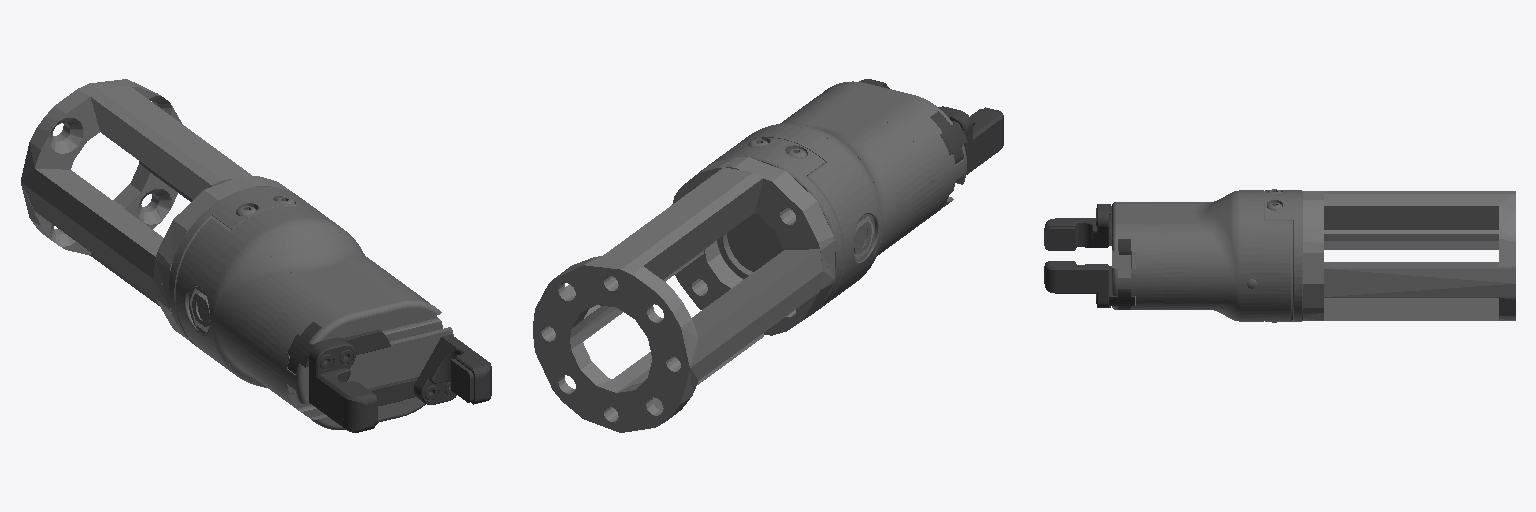
URDF robot description (ikor_robot):
<?xml version="1.0" ?>
<!-- =================================================================================== -->
<!-- |    This document was autogenerated by xacro from [local-path]/mojer/catkin_ws/src/acroba_ros/acroba_resources/urdf/ikor_robot.xacro | -->
<!-- |    EDITING THIS FILE BY HAND IS NOT RECOMMENDED                                 | -->
<!-- =================================================================================== -->
<robot name="ikor_robot">
  <transmission name="shoulder_1_trans">
    <type>transmission_interface/SimpleTransmission</type>
    <joint name="shoulder_1_joint">
      <hardwareInterface>hardware_interface/PositionJointInterface</hardwareInterface>
    </joint>
    <actuator name="shoulder_1_motor">
      <mechanicalReduction>1</mechanicalReduction>
    </actuator>
  </transmission>
  <transmission name="shoulder_2_trans">
    <type>transmission_interface/SimpleTransmission</type>
    <joint name="shoulder_2_joint">
      <hardwareInterface>hardware_interface/PositionJointInterface</hardwareInterface>
    </joint>
    <actuator name="shoulder_2_motor">
      <mechanicalReduction>1</mechanicalReduction>
    </actuator>
  </transmission>
  <transmission name="elbow_1_trans">
    <type>transmission_interface/SimpleTransmission</type>
    <joint name="elbow_1_joint">
      <hardwareInterface>hardware_interface/PositionJointInterface</hardwareInterface>
    </joint>
    <actuator name="elbow_1_motor">
      <mechanicalReduction>1</mechanicalReduction>
    </actuator>
  </transmission>
  <transmission name="wrist_1_trans">
    <type>transmission_interface/SimpleTransmission</type>
    <joint name="wrist_1_joint">
      <hardwareInterface>hardware_interface/PositionJointInterface</hardwareInterface>
    </joint>
    <actuator name="wrist_1_motor">
      <mechanicalReduction>1</mechanicalReduction>
    </actuator>
  </transmission>
  <transmission name="wrist_2_trans">
    <type>transmission_interface/SimpleTransmission</type>
    <joint name="wrist_2_joint">
      <hardwareInterface>hardware_interface/PositionJointInterface</hardwareInterface>
    </joint>
    <actuator name="wrist_2_motor">
      <mechanicalReduction>1</mechanicalReduction>
    </actuator>
  </transmission>
  <transmission name="wrist_3_trans">
    <type>transmission_interface/SimpleTransmission</type>
    <joint name="wrist_3_joint">
      <hardwareInterface>hardware_interface/PositionJointInterface</hardwareInterface>
    </joint>
    <actuator name="wrist_3_motor">
      <mechanicalReduction>1</mechanicalReduction>
    </actuator>
  </transmission>
  <link name="base_link">
    <visual>
      <geometry>
        <mesh filename="package://acroba_resources/meshes/tm900/visual/Base.STL"/>
      </geometry>
      <material name="Grey">
        <color rgba="0.5 0.5 0.5 1.0"/>
      </material>
    </visual>
    <collision>
      <geometry>
        <mesh filename="package://acroba_resources/meshes/tm900/collision/base.STL"/>
      </geometry>
    </collision>
    <inertial>
      <mass value="1.0"/>
      <origin rpy="0 0 0" xyz="0.0 0.0 0.0"/>
      <inertia ixx="0.00110833289" ixy="0.0" ixz="0.0" iyy="0.00110833289" iyz="0.0" izz="0.0018"/>
    </inertial>
  </link>
  <link name="shoulder_1_link">
    <visual>
      <geometry>
        <mesh filename="package://acroba_resources/meshes/tm900/visual/Shoulder1.STL"/>
      </geometry>
      <material name="DarkOlive">
        <color rgba="0.3 0.3 0.25 1.0"/>
      </material>
    </visual>
    <collision>
      <geometry>
        <mesh filename="package://acroba_resources/meshes/tm900/collision/shoulder_1.STL"/>
      </geometry>
    </collision>
    <inertial>
      <mass value="4.5"/>
      <origin rpy="0 0 0" xyz="0.0 0.0 0.0"/>
      <inertia ixx="0.012487495005" ixy="0.0" ixz="0.0" iyy="0.012487495005" iyz="0.0" izz="0.0081"/>
    </inertial>
  </link>
  <joint name="shoulder_1_joint" type="revolute">
    <parent link="base_link"/>
    <child link="shoulder_1_link"/>
    <origin rpy="-1.570796325 0.0 0.0" xyz="0.0 0.0 0.1451"/>
    <axis xyz="0 -1 0"/>
    <limit effort="150.0" lower="-6.2831853" upper="6.2831853" velocity="3.15"/>
    <dynamics damping="0.0" friction="0.0"/>
  </joint>
  <link name="arm_1_link">
    <visual>
      <geometry>
        <mesh filename="package://acroba_resources/meshes/tm900/visual/Arm1.STL"/>
      </geometry>
      <material name="DarkOlive">
        <color rgba="0.3 0.3 0.25 1.0"/>
      </material>
    </visual>
    <collision>
      <geometry>
        <mesh filename="package://acroba_resources/meshes/tm900/collision/arm_1.STL"/>
      </geometry>
    </collision>
    <inertial>
      <mass value="11.0"/>
      <origin rpy="0 0 0" xyz="0.0 0.0 0.28"/>
      <inertia ixx="0.29736654772" ixy="0.0" ixz="0.0" iyy="0.29736654772" iyz="0.0" izz="0.019799999999999998"/>
    </inertial>
  </link>
  <joint name="shoulder_2_joint" type="revolute">
    <parent link="shoulder_1_link"/>
    <child link="arm_1_link"/>
    <origin rpy="0.0 0.0 -1.570796325" xyz="0.0 0.0 -0.146"/>
    <axis xyz="0 0 1"/>
    <limit effort="150.0" lower="-4.7123889750000005" upper="4.7123889750000005" velocity="3.15"/>
    <dynamics damping="0.0" friction="0.0"/>
  </joint>
  <link name="arm_2_link">
    <visual>
      <geometry>
        <mesh filename="package://acroba_resources/meshes/tm900/visual/Arm2.STL"/>
      </geometry>
      <material name="DarkOlive">
        <color rgba="0.3 0.3 0.25 1.0"/>
      </material>
    </visual>
    <collision>
      <geometry>
        <mesh filename="package://acroba_resources/meshes/tm900/collision/arm_2.STL"/>
      </geometry>
    </collision>
    <inertial>
      <mass value="2.5"/>
      <origin rpy="0 0 0" xyz="0.0 0.0 0.25"/>
      <inertia ixx="0.054333311599999996" ixy="0.0" ixz="0.0" iyy="0.054333311599999996" iyz="0.0" izz="0.0045"/>
    </inertial>
  </link>
  <joint name="elbow_1_joint" type="revolute">
    <parent link="arm_1_link"/>
    <child link="arm_2_link"/>
    <origin rpy="0.0 0.0 0.0" xyz="0.429 0.0 0.1298"/>
    <axis xyz="0 0 1"/>
    <limit effort="150.0" lower="-4.7123889750000005" upper="4.7123889750000005" velocity="3.15"/>
    <dynamics damping="0.0" friction="0.0"/>
  </joint>
  <link name="wrist_1_link">
    <visual>
      <geometry>
        <mesh filename="package://acroba_resources/meshes/tm900/visual/Wrist1.STL"/>
      </geometry>
      <material name="DarkOlive">
        <color rgba="0.3 0.3 0.25 1.0"/>
      </material>
    </visual>
    <collision>
      <geometry>
        <mesh filename="package://acroba_resources/meshes/tm900/collision/wrist_1.STL"/>
      </geometry>
    </collision>
    <inertial>
      <mass value="1.45"/>
      <origin rpy="0 0 0" xyz="0.0 0.0 0.0"/>
      <inertia ixx="0.13223994710399997" ixy="0.0" ixz="0.0" iyy="0.13223994710399997" iyz="0.0" izz="0.261"/>
    </inertial>
  </link>
  <joint name="wrist_1_joint" type="revolute">
    <parent link="arm_2_link"/>
    <child link="wrist_1_link"/>
    <origin rpy="1.570796325 0.0 1.570796325" xyz="0.4115 0.0 -0.10600000000000001"/>
    <axis xyz="0 1 0"/>
    <limit effort="28.0" lower="-6.2831853" upper="6.2831853" velocity="3.2"/>
    <dynamics damping="0.0" friction="0.0"/>
  </joint>
  <link name="wrist_2_link">
    <visual>
      <geometry>
        <mesh filename="package://acroba_resources/meshes/tm900/visual/Wrist2.STL"/>
      </geometry>
      <material name="DarkOlive">
        <color rgba="0.3 0.3 0.25 1.0"/>
      </material>
    </visual>
    <collision>
      <geometry>
        <mesh filename="package://acroba_resources/meshes/tm900/collision/wrist_2.STL"/>
      </geometry>
    </collision>
    <inertial>
      <mass value="1.45"/>
      <origin rpy="0 0 0" xyz="0.0 0.0 0.0"/>
      <inertia ixx="0.13223994710399997" ixy="0.0" ixz="0.0" iyy="0.13223994710399997" iyz="0.0" izz="0.261"/>
    </inertial>
  </link>
  <joint name="wrist_2_joint" type="revolute">
    <parent link="wrist_1_link"/>
    <child link="wrist_2_link"/>
    <origin rpy="1.570796325 0.0 0.0" xyz="0.0 0.0 0.106"/>
    <axis xyz="0 1 0"/>
    <limit effort="28.0" lower="-6.2831853" upper="6.2831853" velocity="3.2"/>
    <dynamics damping="0.0" friction="0.0"/>
  </joint>
  <link name="wrist_3_link">
    <visual>
      <geometry>
        <mesh filename="package://acroba_resources/meshes/tm900/visual/Wrist3.STL"/>
      </geometry>
      <origin rpy="0 0 0" xyz="0 0 0.015"/>
      <material name="Grey">
        <color rgba="0.5 0.5 0.5 1.0"/>
      </material>
    </visual>
    <collision>
      <geometry>
        <mesh filename="package://acroba_resources/meshes/tm900/collision/wrist_3.STL"/>
      </geometry>
    </collision>
    <inertial>
      <mass value="0.4"/>
      <origin rpy="0 0 0" xyz="0.0 0.0 0.0"/>
      <inertia ixx="0.036479985407999994" ixy="0.0" ixz="0.0" iyy="0.036479985407999994" iyz="0.0" izz="0.072"/>
    </inertial>
  </link>
  <joint name="wrist_3_joint" type="revolute">
    <parent link="wrist_2_link"/>
    <child link="wrist_3_link"/>
    <origin rpy="0.0 0.0 0.0" xyz="0.0 0.0 0.0565"/>
    <axis xyz="0 0 1"/>
    <limit effort="28.0" lower="-6.2831853" upper="6.2831853" velocity="3.2"/>
    <dynamics damping="0.0" friction="0.0"/>
  </joint>
  <link name="tool0"/>
  <!-- Frame coincident with all-zeros TCP on TM controller -->
  <joint name="wrist3_joint_tool0" type="fixed">
    <parent link="wrist_3_link"/>
    <child link="tool0"/>
    <origin rpy="0.0 0.0 0.0" xyz="0.0 0.0 0.0579"/>
  </joint>
  <link name="extension">
    <visual>
      <origin rpy="0 0 0" xyz="0.0 0.0 0.0"/>
      <geometry>
        <mesh filename="package://acroba_resources/meshes/miscellaneous/supportikor1/gripper_extension.stl"/>
      </geometry>
      <material name="Grey">
        <color rgba="0.5 0.5 0.5 1.0"/>
      </material>
    </visual>
    <collision>
      <origin rpy="0 0 0" xyz="0.0 0.0 0.046"/>
      <geometry>
        <cylinder length="0.092" radius="0.0315"/>
      </geometry>
    </collision>
    <inertial>
      <mass value="0.2"/>
      <origin rpy="0 0 0" xyz="0.0 0.0 0.0"/>
      <inertia ixx="0.000190679090395" ixy="0.0" ixz="0.0" iyy="0.000190679090395" iyz="0.0" izz="9.9225e-05"/>
    </inertial>
  </link>
  <link name="extension_top">
    <visual>
      <origin rpy="0 0 0" xyz="0.0 0.0 0.01"/>
      <geometry>
        <mesh filename="package://acroba_resources/meshes/miscellaneous/supportikor1/gripper_extension_top.stl"/>
      </geometry>
      <material name="Grey">
        <color rgba="0.5 0.5 0.5 1.0"/>
      </material>
    </visual>
    <collision>
      <origin rpy="0 0 0" xyz="0.0 0.0 0.005"/>
      <geometry>
        <cylinder length="0.01" radius="0.0315"/>
      </geometry>
    </collision>
    <inertial>
      <mass value="0.2"/>
      <origin rpy="0 0 0" xyz="0.0 0.0 0.0"/>
      <inertia ixx="0.000190679090395" ixy="0.0" ixz="0.0" iyy="0.000190679090395" iyz="0.0" izz="9.9225e-05"/>
    </inertial>
  </link>
  <joint name="joint_extensions" type="fixed">
    <parent link="extension"/>
    <child link="extension_top"/>
    <origin rpy="0.0 0.0 0.0" xyz="0.0 0.0 0.092"/>
  </joint>
  <link name="extension_tool0"/>
  <joint name="joint_extensiontool" type="fixed">
    <parent link="extension_top"/>
    <child link="extension_tool0"/>
    <origin rpy="0.0 0.0 0.0" xyz="0.0 0.0 0.01"/>
  </joint>
  <disable_collision link1="extension" link2="extension_top"/>
  <material name="pgc_dark_grey">
    <color rgba="0.3 0.3 0.3 1.0"/>
  </material>
  <material name="pgc_grey">
    <color rgba="0.45 0.45 0.45 1.0"/>
  </material>
  <!-- Finger and body intersect for 1.3mm this is taking into account in finger_length-->
  <link name="base_tool">
    <visual>
      <origin rpy="0 0 0" xyz="0.0 0.0 0.0"/>
      <geometry>
        <mesh filename="package://acroba_resources/meshes/pgc50/body.dae" scale="0.001 0.001 0.001"/>
      </geometry>
      <material name="pgc_grey"/>
    </visual>
    <collision>
      <origin rpy="0 0 0" xyz="0.0 0.0 0.0"/>
      <geometry>
        <mesh filename="package://acroba_resources/meshes/pgc50/body.stl" scale="0.001 0.001 0.001"/>
      </geometry>
    </collision>
    <inertial>
      <mass value="0.5"/>
      <inertia ixx="0.0037" ixy="0.0" ixz="0.0" iyy="0.0037" iyz="0.0" izz="0.0146"/>
    </inertial>
  </link>
  <link name="base_finger_1">
    <visual>
      <origin rpy="0 0 0" xyz="0.0 0.0 0.0"/>
      <geometry>
        <mesh filename="package://acroba_resources/meshes/pgc50/finger_holder_1.stl" scale="0.001 0.001 0.001"/>
      </geometry>
      <material name="pgc_dark_grey"/>
    </visual>
    <collision>
      <origin rpy="0 0 0" xyz="0.0 0.0 0.0"/>
      <geometry>
        <mesh filename="package://acroba_resources/meshes/pgc50/finger_holder_1.stl" scale="0.001 0.001 0.001"/>
      </geometry>
    </collision>
    <inertial>
      <mass value="0.05"/>
      <inertia ixx="0.0037" ixy="0.0" ixz="0.0" iyy="0.0037" iyz="0.0" izz="0.0146"/>
    </inertial>
  </link>
  <link name="base_finger_2">
    <visual>
      <origin rpy="0 0 0" xyz="0.0 0.0 0.0"/>
      <geometry>
        <mesh filename="package://acroba_resources/meshes/pgc50/finger_holder_2.stl" scale="0.001 0.001 0.001"/>
      </geometry>
      <material name="pgc_dark_grey"/>
    </visual>
    <collision>
      <origin rpy="0 0 0" xyz="0.0 0.0 0.0"/>
      <geometry>
        <mesh filename="package://acroba_resources/meshes/pgc50/finger_holder_2.stl" scale="0.001 0.001 0.001"/>
      </geometry>
    </collision>
    <inertial>
      <mass value="0.05"/>
      <inertia ixx="0.0037" ixy="0.0" ixz="0.0" iyy="0.0037" iyz="0.0" izz="0.0146"/>
    </inertial>
  </link>
  <link name="finger_1">
    <visual>
      <origin rpy="0.0 0.0 0.0" xyz="0 0 0"/>
      <geometry>
        <mesh filename="package://acroba_resources/meshes/pgc50/finger_1.stl" scale="0.001 0.001 0.001"/>
      </geometry>
      <material name="pgc_dark_grey"/>
    </visual>
    <collision>
      <origin rpy="0.0 0.0 0.0" xyz="0 0 0"/>
      <geometry>
        <mesh filename="package://acroba_resources/meshes/pgc50/finger_1.stl" scale="0.001 0.001 0.001"/>
      </geometry>
    </collision>
    <inertial>
      <mass value="0.1"/>
      <inertia ixx="0.0037" ixy="0.0" ixz="0.0" iyy="0.0037" iyz="0.0" izz="0.0146"/>
    </inertial>
  </link>
  <link name="finger_2">
    <visual>
      <origin rpy="0.0 0.0 0.0" xyz="0 0 0"/>
      <geometry>
        <mesh filename="package://acroba_resources/meshes/pgc50/finger_2.stl" scale="0.001 0.001 0.001"/>
      </geometry>
      <material name="pgc_dark_grey"/>
    </visual>
    <collision>
      <origin rpy="0.0 0.0 0.0" xyz="0 0 0"/>
      <geometry>
        <mesh filename="package://acroba_resources/meshes/pgc50/finger_2.stl" scale="0.001 0.001 0.001"/>
      </geometry>
    </collision>
    <inertial>
      <mass value="0.1"/>
      <inertia ixx="0.0037" ixy="0.0" ixz="0.0" iyy="0.0037" iyz="0.0" izz="0.0146"/>
    </inertial>
  </link>
  <joint name="joint_base_finger_1" type="prismatic">
    <origin rpy="0 0 0" xyz="0 0 0"/>
    <parent link="base_tool"/>
    <child link="base_finger_1"/>
    <axis xyz="1 0 0"/>
    <limit effort="50" lower="0" upper="0.0175" velocity="10"/>
  </joint>
  <joint name="joint_base_finger_2" type="prismatic">
    <origin rpy="0 0 0" xyz="0 0 0"/>
    <parent link="base_tool"/>
    <child link="base_finger_2"/>
    <axis xyz="-1 0 0"/>
    <limit effort="50" lower="0" upper="0.0175" velocity="10"/>
  </joint>
  <joint name="joint_finger_1" type="fixed">
    <origin rpy="0 0 0" xyz="0 0 0"/>
    <parent link="base_finger_1"/>
    <child link="finger_1"/>
  </joint>
  <joint name="joint_finger_2" type="fixed">
    <origin rpy="0 0 0" xyz="0 0 0"/>
    <parent link="base_finger_2"/>
    <child link="finger_2"/>
  </joint>
  <link name="gripping_point"/>
  <joint name="joint_gripping" type="fixed">
    <origin rpy="0 0 0" xyz="0. 0 0.1242"/>
    <parent link="base_tool"/>
    <child link="gripping_point"/>
  </joint>
  <!-- Add gazebo colors-->
  <gazebo reference="base_tool">
    <material>Gazebo/FlatBlack</material>
  </gazebo>
  <gazebo reference="base_finger_1">
    <material>Gazebo/FlatBlack</material>
  </gazebo>
  <gazebo reference="base_finger_2">
    <material>Gazebo/FlatBlack</material>
  </gazebo>
  <gazebo reference="finger_1">
    <material>Gazebo/FlatBlack</material>
  </gazebo>
  <gazebo reference="finger_2">
    <material>Gazebo/FlatBlack</material>
  </gazebo>
  <!-- Transmissions-->
  <transmission name="joint_finger1_trans">
    <type>transmission_interface/SimpleTransmission</type>
    <joint name="joint_base_finger_1">
      <hardwareInterface>hardware_interface/EffortJointInterface</hardwareInterface>
    </joint>
    <actuator name="joint_base_finger_1_motor">
      <hardwareInterface>hardware_interface/EffortJointInterface</hardwareInterface>
      <mechanicalReduction>1</mechanicalReduction>
    </actuator>
  </transmission>
  <transmission name="joint_finger2_trans">
    <type>transmission_interface/SimpleTransmission</type>
    <joint name="joint_base_finger_2">
      <hardwareInterface>hardware_interface/EffortJointInterface</hardwareInterface>
    </joint>
    <actuator name="joint_base_finger_2_motor">
      <hardwareInterface>hardware_interface/EffortJointInterface</hardwareInterface>
      <mechanicalReduction>1</mechanicalReduction>
    </actuator>
  </transmission>
  <disable_collision link1="wrist_3_link" link2="base_tool">
  </disable_collision>
  <!-- Disabling collision for gripper-->
  <disable_collision link1="base_tool" link2="base_finger_1">
  </disable_collision>
  <disable_collision link1="base_tool" link2="base_finger_2">
  </disable_collision>
  <disable_collision link1="base_finger_2" link2="base_finger_1">
  </disable_collision>
  <disable_collision link1="base_tool" link2="finger_1">
  </disable_collision>
  <disable_collision link1="base_tool" link2="finger_2">
  </disable_collision>
  <link name="world"/>
  <joint name="world_joint" type="fixed">
    <parent link="world"/>
    <child link="base_link"/>
    <origin rpy="0 0 0" xyz="0 0 0"/>
  </joint>
  <joint name="tool_extension_joint" type="fixed">
    <parent link="tool0"/>
    <child link="extension"/>
    <origin rpy="0.0 0.0 0.0" xyz="0.0 0.0 0.0"/>
  </joint>
  <joint name="tool__extension_joint" type="fixed">
    <parent link="extension_tool0"/>
    <child link="base_tool"/>
    <origin rpy="0.0 0.0 0.0" xyz="0.0 0.0 0.0"/>
  </joint>
  <!-- Disabling collision between tool and robot, maybe not necessary-->
  <disable_collision link1="wrist_3_link" link2="extension"/>
  <disable_collision link1="extension_tool0" link2="base_tool"/>
</robot>

--- What the picture shows (computed from the rendered views, not written in the file) ---
Views: 3 orthographic renders of the robot side by side, from view 1: azimuth 30°, elevation 25°; view 2: azimuth 150°, elevation 25°; view 3: azimuth 270°, elevation 25°.
Robot: ikor_robot — 18 links, 17 joints (6 revolute, 2 prismatic, 9 fixed); root link world; default pose: every joint at zero.
Visible links, largest first — view 1: base_tool, extension, finger_1, finger_2, extension_top, base_finger_1, base_finger_2; view 2: extension, base_tool, extension_top, finger_1, base_finger_1; view 3: extension, base_tool, extension_top, finger_1, finger_2.
Link boxes in pixels (x1,y1,x2,y2): base_tool: [168, 187, 453, 429]; extension: [21, 79, 251, 305]; finger_1: [309, 337, 377, 432]; finger_2: [414, 334, 491, 404]; extension_top: [153, 176, 297, 339]; base_finger_1: [287, 322, 390, 373]; base_finger_2: [368, 377, 417, 405]; extension: [533, 167, 822, 432]; base_tool: [708, 81, 966, 315]; extension_top: [672, 157, 834, 335]; finger_1: [938, 106, 1003, 174]; base_finger_1: [930, 112, 967, 163]; extension: [1324, 191, 1515, 320]; base_tool: [1112, 189, 1302, 322]; extension_top: [1303, 191, 1323, 320]; finger_1: [1044, 204, 1110, 250]; finger_2: [1044, 261, 1110, 307].
Size in the robot's own frame: 0.0652 by 0.226 by 0.063 metres.
Meshes: 14 distinct files referenced, 7 mesh visuals loaded (6 binary STL, 1 Collada DAE); not drawn: 7 (reference not matched to a file when rendering).
